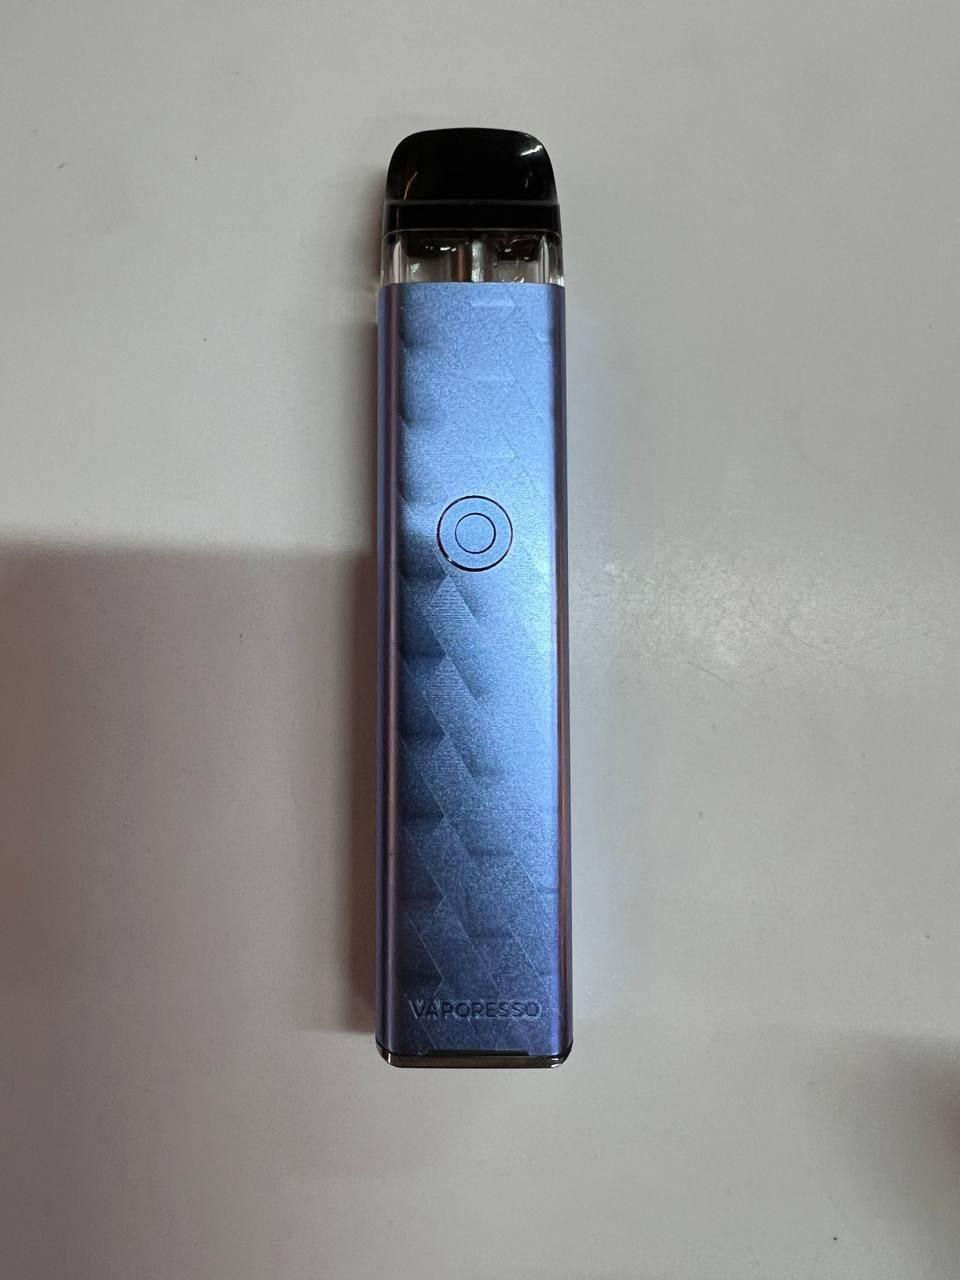Vape: (376, 128, 572, 1067)
